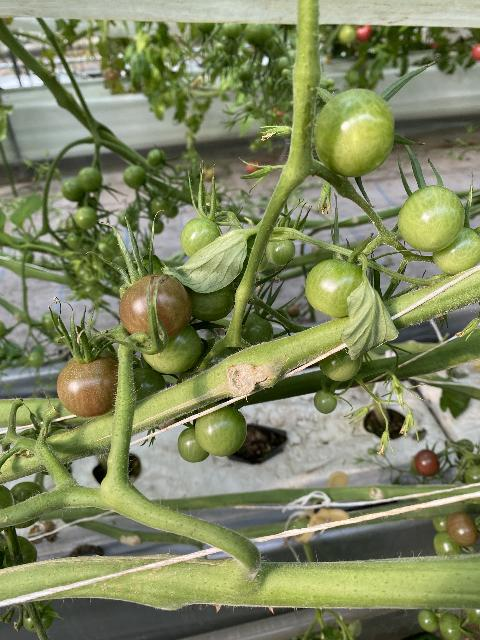l_green: (313, 89, 395, 178), (397, 184, 465, 253), (306, 259, 367, 318), (142, 323, 203, 374), (194, 406, 247, 457), (433, 225, 480, 276), (183, 281, 235, 321), (227, 313, 273, 354), (10, 481, 47, 528), (180, 218, 223, 257), (320, 347, 362, 381), (134, 368, 166, 404), (178, 426, 210, 462), (2, 536, 37, 568), (126, 259, 165, 287), (20, 601, 54, 632), (265, 235, 296, 266), (313, 387, 337, 414)
l_half_ripened: (118, 274, 192, 343), (57, 358, 119, 418)
